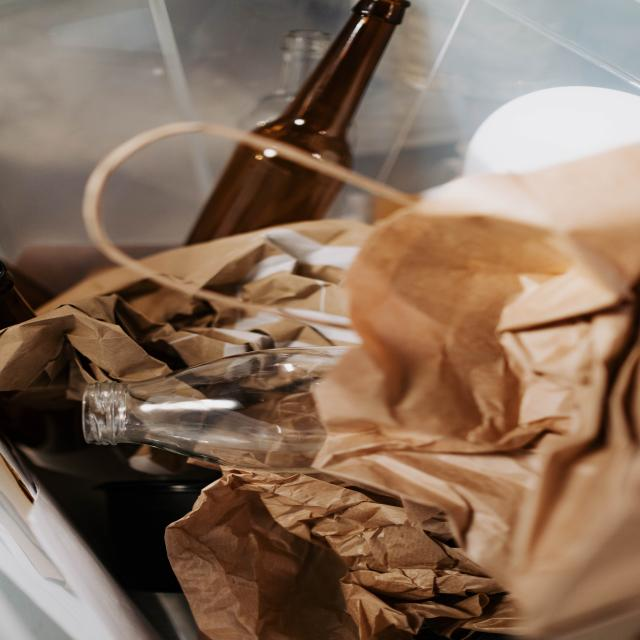cardboard: (362, 295, 582, 590)
glass: (124, 380, 310, 456)
